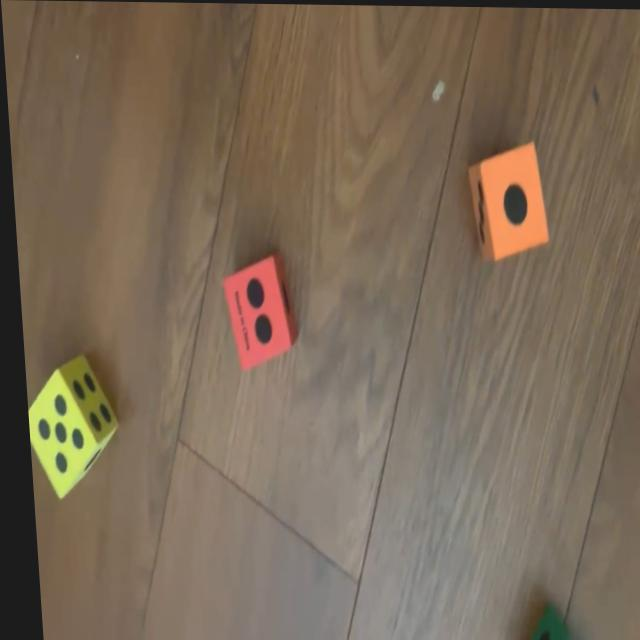red_block: (215, 249, 293, 370)
